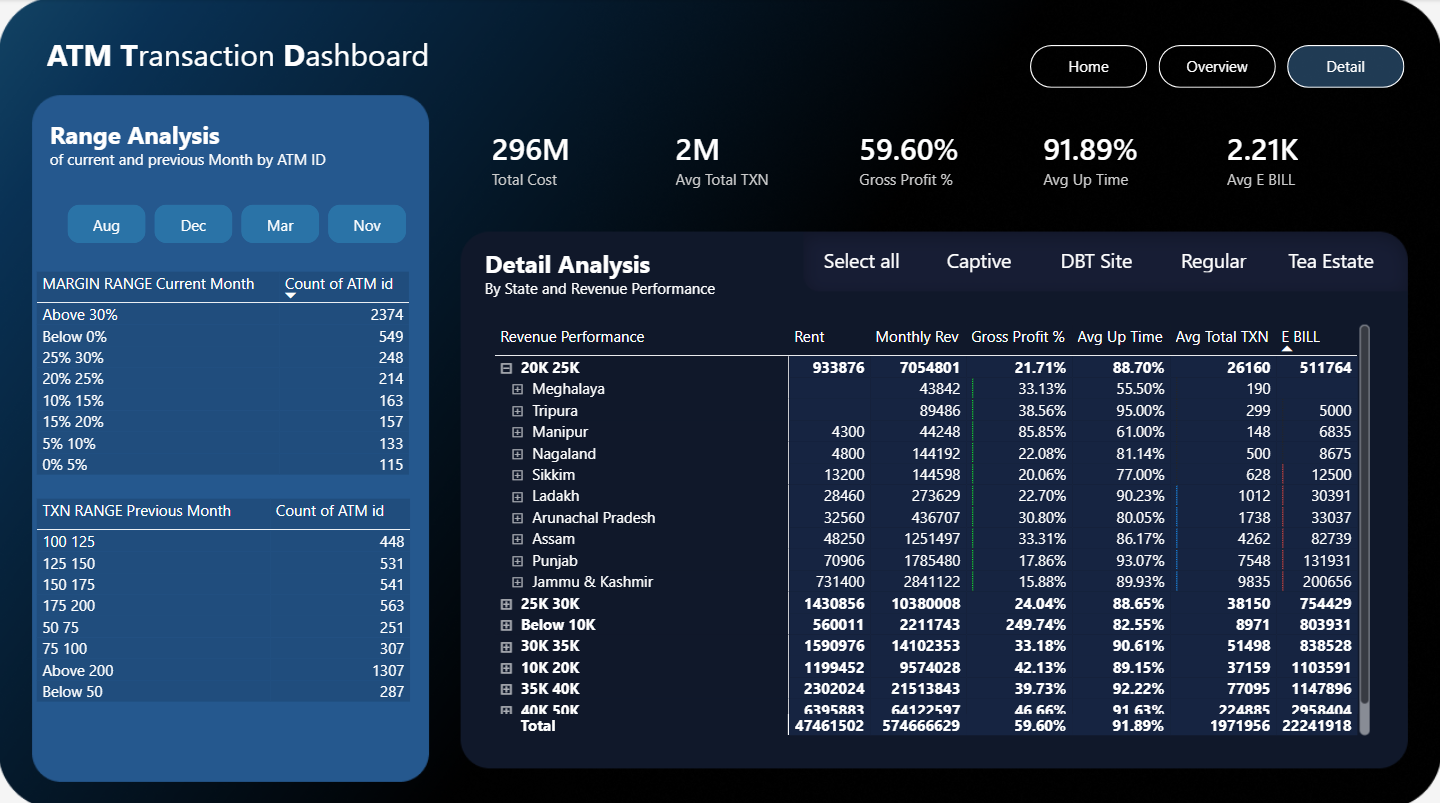

Layout of this report page (visuals, bound fields, positions):
{"tool":"powerbi","page":{"name":"Detail","canvas":[1280,720],"ordinal":2},"visuals":[{"type":"tableEx","fields":{"Values":["Dataset.MARGIN RANGE Current Month","Dataset.ATM id"]},"box":[28.7,236.5,351.5,220],"z":0},{"type":"tableEx","fields":{"Values":["Dataset.TXN RANGE Previous Month","Dataset.ATM id"]},"box":[28.7,437.7,351.5,220],"z":1000},{"type":"textbox","box":[40.9,100.6,310.6,59.7],"z":2000},{"type":"advancedSlicerVisual","fields":{"Values":["Dataset.Short_Month"]},"box":[57,177.2,311.6,44.8],"z":3000},{"type":"pivotTable","fields":{"Rows":["Dataset.Revenue Performance","Dataset.STATE","Dataset.ATM id"],"Values":["Sum(Dataset.RENT)","Sum(Dataset.Monthly Rev)","Dataset.Gross Profit Percentage","Avg(Dataset.Up Time)","Sum(Dataset.AVG Total TXN)","Sum(Dataset. EBILL )"]},"box":[435.5,284.1,785.9,373.6],"z":4000},{"type":"cardVisual","fields":{"Data":["Sum(Dataset. Total Cost  )","Sum(Dataset.AVG Total TXN)","Dataset.Gross Profit Percentage","Avg(Dataset.Up Time)","Avg(Dataset. EBILL )"]},"box":[408.3,91.6,841.1,99.8],"z":5000},{"type":"textbox","box":[426.7,214.4,310.6,59.7],"z":6000},{"type":"pageNavigator","box":[915.4,40.7,334,38.7],"z":7000},{"type":"advancedSlicerVisual","fields":{"Values":["Dataset.ATM TYPE"]},"box":[712.9,200,525.7,60],"z":8000},{"type":"textbox","box":[38.5,25.3,379.8,49.9],"z":9000}]}

Visuals, with their boxes in screenshot pixels (x1, y1, x2, y2), scaled from the page's 1280x720 canvas onto the 1440x803 screenshot:
tableEx - Dataset.MARGIN RANGE Current Month x Dataset.ATM id: l=32, t=264, r=428, b=509
tableEx - Dataset.TXN RANGE Previous Month x Dataset.ATM id: l=32, t=488, r=428, b=734
textbox: l=46, t=112, r=395, b=179
advancedSlicerVisual - Dataset.Short_Month: l=64, t=198, r=415, b=248
pivotTable - Dataset.Revenue Performance x Dataset.STATE: l=490, t=317, r=1374, b=734
cardVisual - Sum(Dataset. Total Cost  ) x Sum(Dataset.AVG Total TXN): l=459, t=102, r=1406, b=213
textbox: l=480, t=239, r=829, b=306
pageNavigator: l=1030, t=45, r=1406, b=89
advancedSlicerVisual - Dataset.ATM TYPE: l=802, t=223, r=1393, b=290
textbox: l=43, t=28, r=471, b=84
